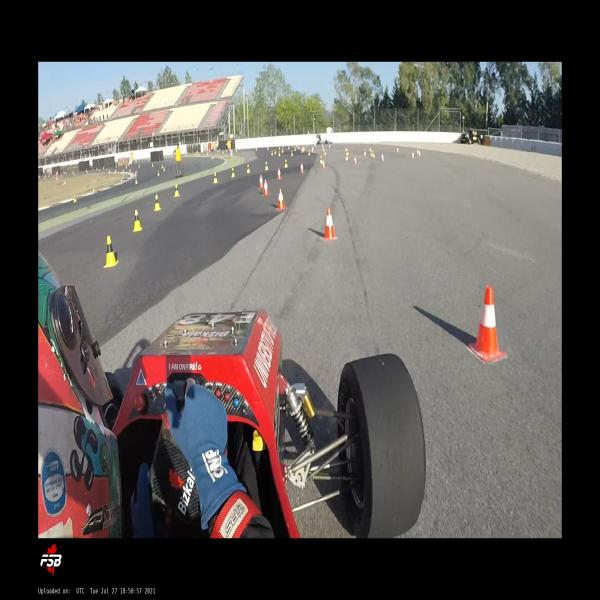orange_cone: (469, 286, 506, 364), (320, 208, 336, 242), (275, 189, 286, 210), (262, 179, 270, 196), (258, 174, 264, 188), (276, 168, 282, 180), (300, 162, 304, 173), (322, 160, 325, 169), (381, 154, 384, 161), (354, 155, 356, 164), (418, 150, 420, 157), (412, 152, 414, 158), (396, 147, 398, 153), (93, 188, 95, 194), (416, 149, 418, 154), (121, 179, 123, 184)
yellow_cone: (104, 234, 118, 268), (132, 210, 143, 232), (153, 194, 161, 211), (173, 184, 180, 197), (212, 172, 218, 183), (230, 167, 235, 178), (246, 164, 251, 173), (284, 158, 288, 168), (264, 161, 268, 170), (372, 150, 375, 158), (74, 194, 76, 202), (320, 156, 322, 163), (346, 153, 348, 160), (370, 150, 372, 156), (136, 178, 138, 184), (158, 170, 160, 176), (164, 166, 166, 172), (364, 149, 366, 155)
